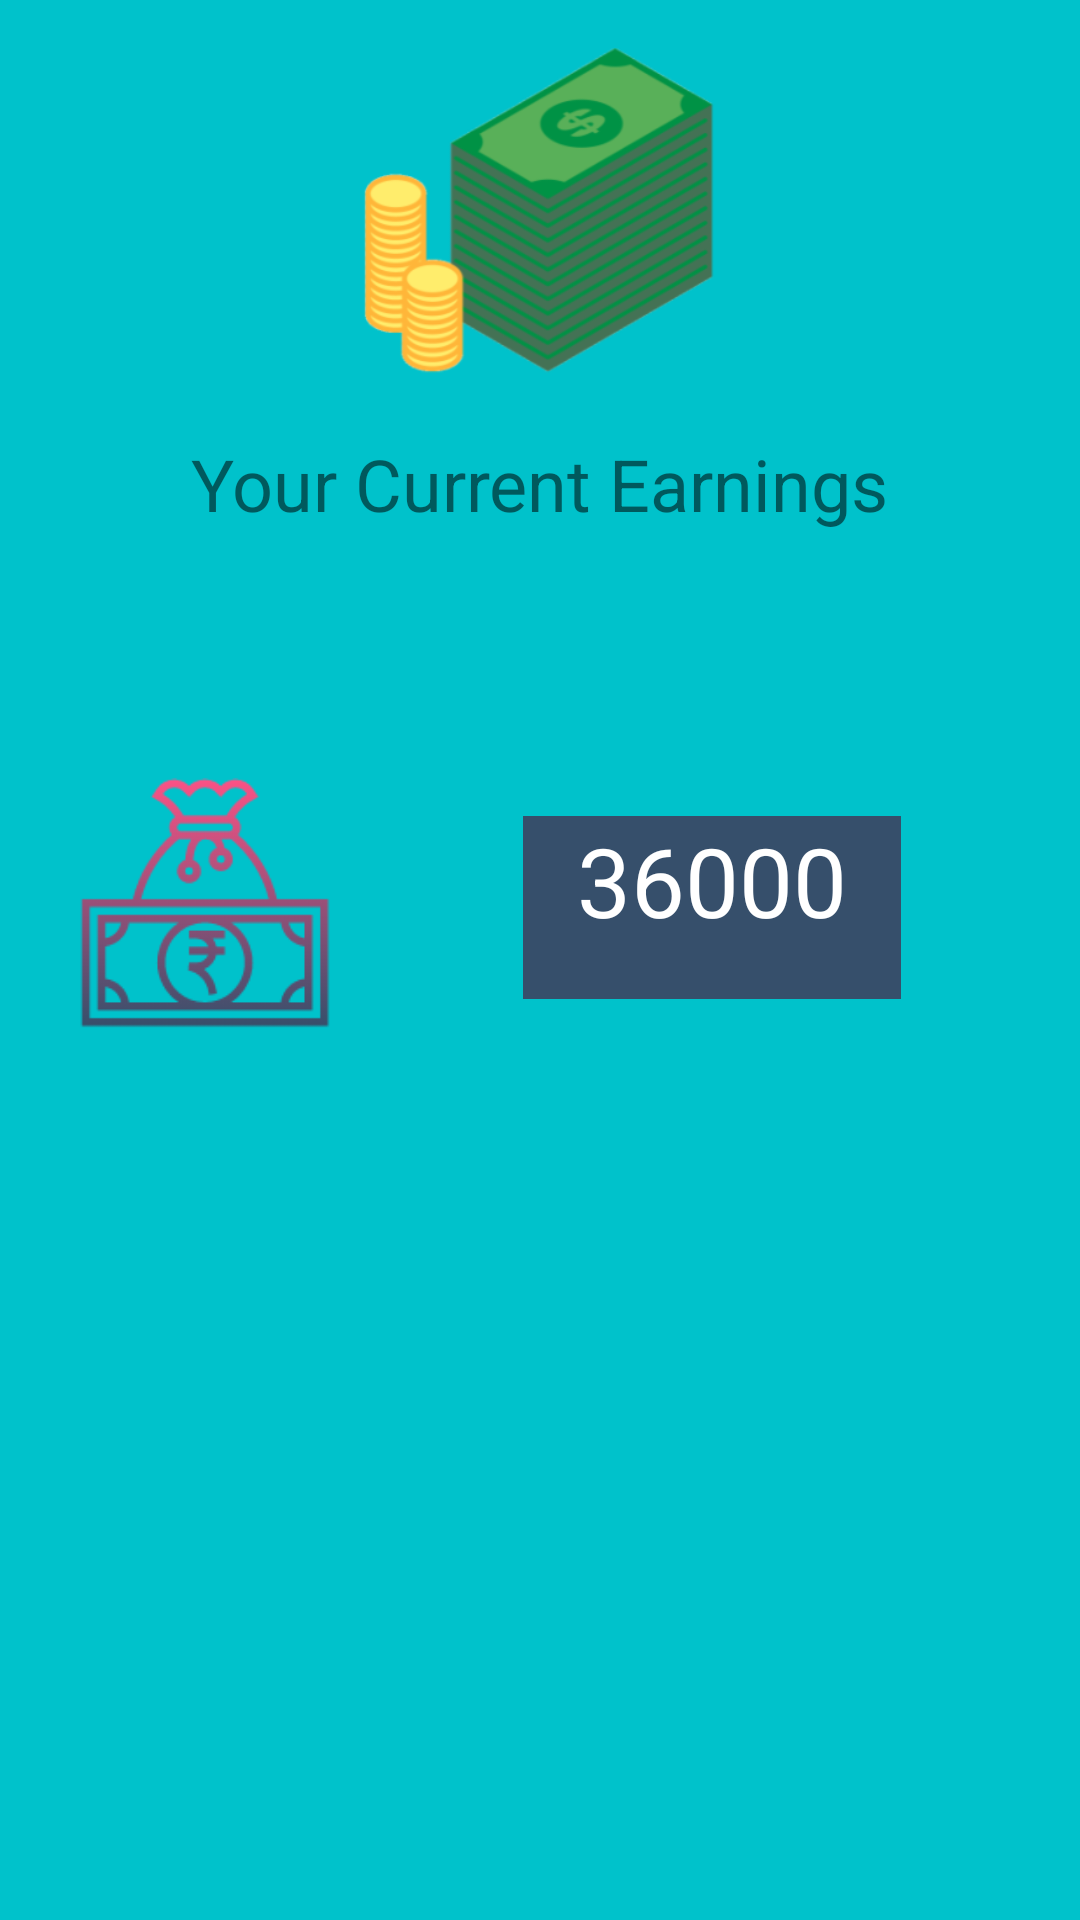

Named icons in this screenshot (1080×1920) and their centers, point (x, y):
money: point (538, 210), point (205, 902)
